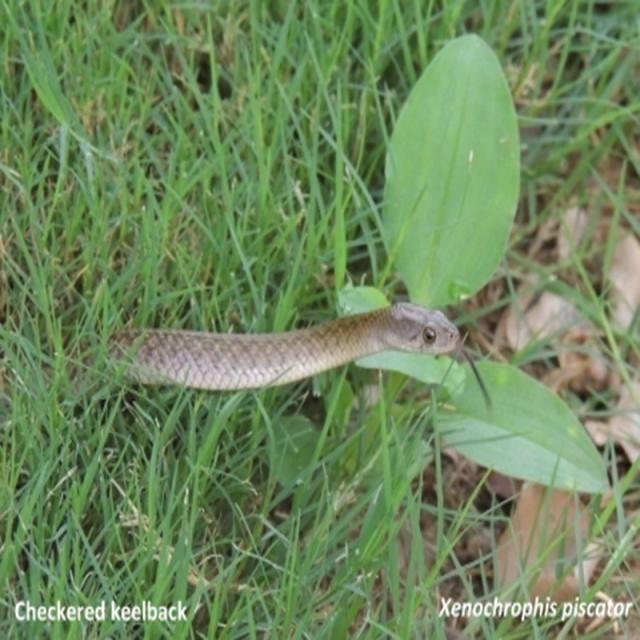Snake: (67, 301, 466, 391)
